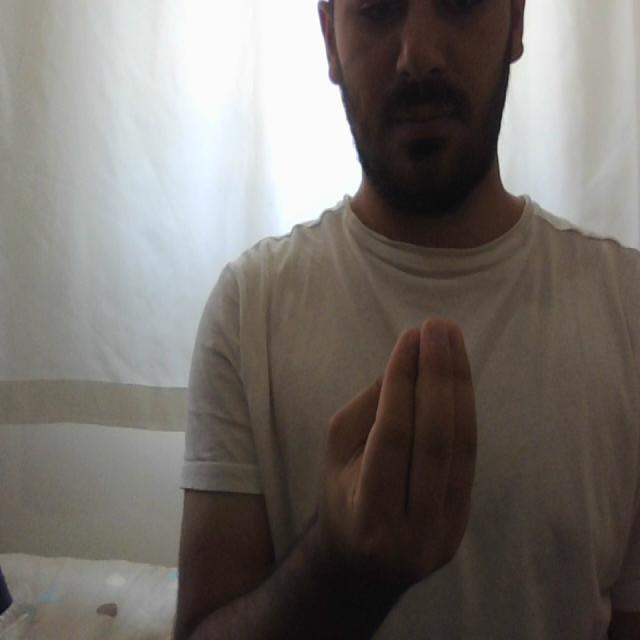iyi: (325, 303, 484, 561)
